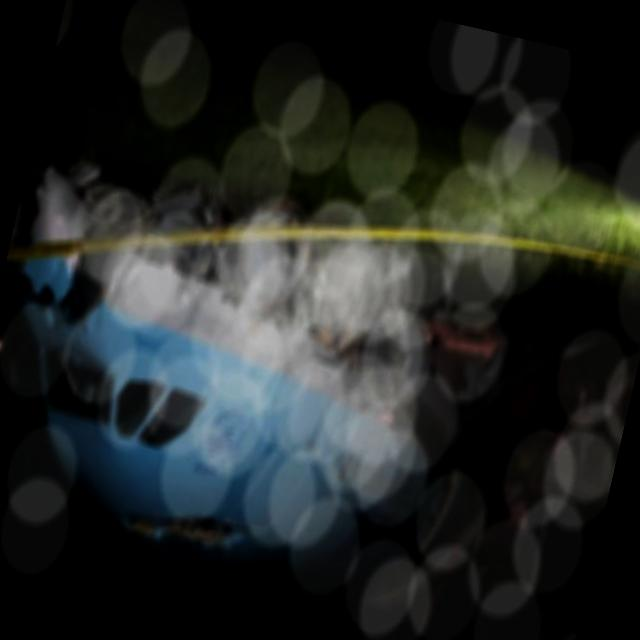crack: (115, 485, 252, 567)
